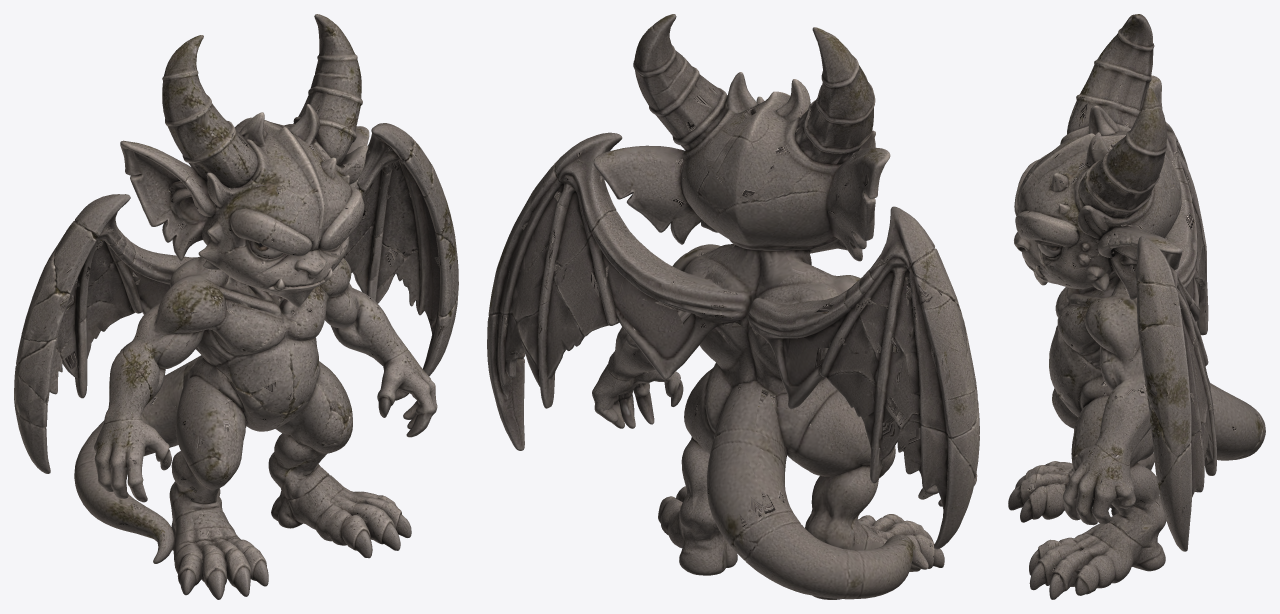
File: bartholomew.glb
3 renders of one model, left to right at view 1: azimuth 30°, elevation 25°; view 2: azimuth 150°, elevation 25°; view 3: azimuth 270°, elevation 25°, orthographic. The views are drawn at different scales.
Visible parts, largest first — view 1: bartholomew; view 2: bartholomew; view 3: bartholomew.
Boxes of the visible parts, x1=… form: bartholomew: x1=14, y1=14, x2=458, y2=599; bartholomew: x1=487, y1=14, x2=979, y2=599; bartholomew: x1=1008, y1=14, x2=1265, y2=599.
Size of the model in its own units: 1.72 by 1.9 by 0.8802.
1 material, 1 textured.
